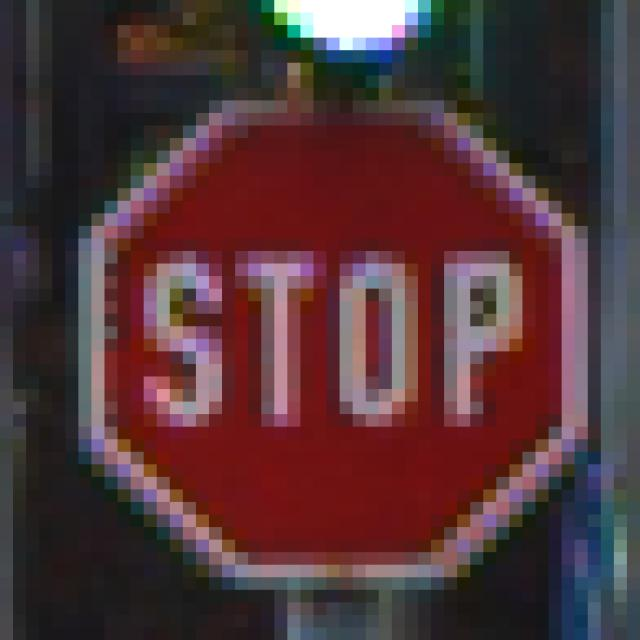STOP: (66, 76, 576, 566)
